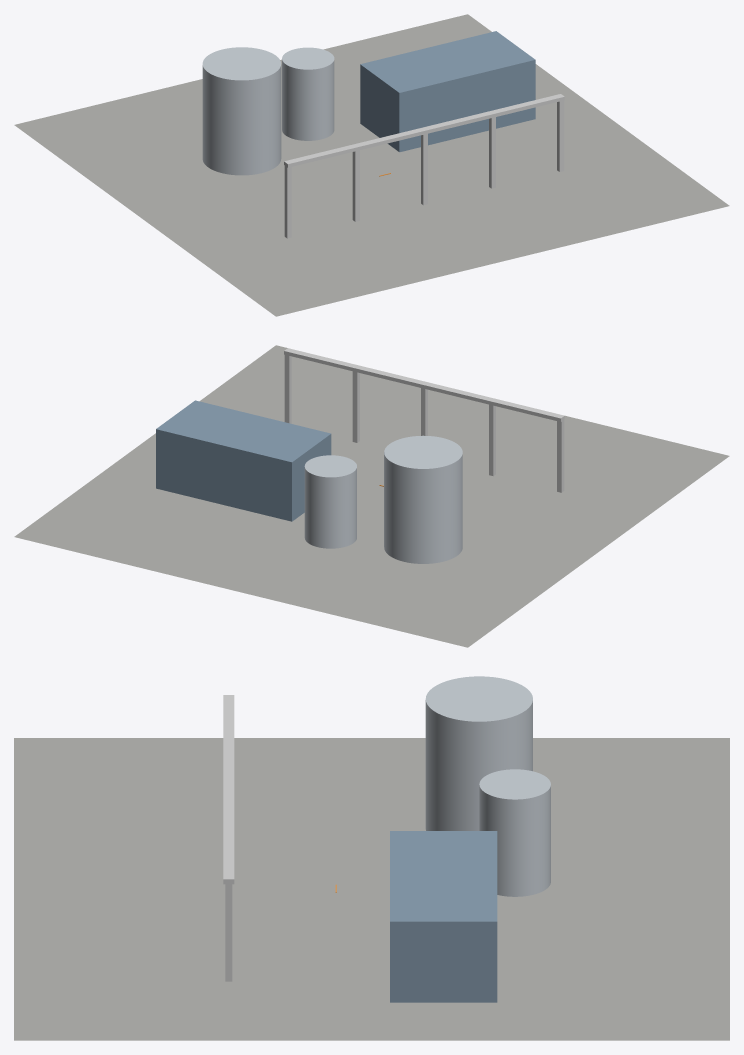
The model's file is sample-site.glb.
The picture shows the model from 3 angles, top to bottom: view 1: azimuth 30°, elevation 25°; view 2: azimuth 150°, elevation 25°; view 3: azimuth 270°, elevation 25°; orthographic projection. The views are drawn at different scales.
Parts seen in each view (by area): view 1: GROUND_40x40m, SHED_12x6x5m, TANK_A_d6m_h8m, TANK_B_d4m_h6m, PIPE_RACK_24m, PILLAR_0_0.4x6m, PILLAR_4_0.4x6m, PILLAR_1_0.4x6m, PILLAR_2_0.4x6m, PILLAR_3_0.4x6m; view 2: GROUND_40x40m, SHED_12x6x5m, TANK_A_d6m_h8m, TANK_B_d4m_h6m, PIPE_RACK_24m, PILLAR_0_0.4x6m, PILLAR_3_0.4x6m, PILLAR_4_0.4x6m, PILLAR_1_0.4x6m; view 3: GROUND_40x40m, SHED_12x6x5m, TANK_A_d6m_h8m, TANK_B_d4m_h6m, PIPE_RACK_24m, PILLAR_4_0.4x6m.
Boxes of the visible parts, x1,y1,x2,y2 form: GROUND_40x40m: (14,14,729,316); SHED_12x6x5m: (360,31,535,152); TANK_A_d6m_h8m: (202,47,281,175); TANK_B_d4m_h6m: (282,47,334,140); PIPE_RACK_24m: (284,94,564,167); PILLAR_0_0.4x6m: (284,166,291,238); PILLAR_4_0.4x6m: (557,100,564,171); PILLAR_1_0.4x6m: (352,150,359,221); PILLAR_2_0.4x6m: (421,133,427,205); PILLAR_3_0.4x6m: (489,117,495,188); GROUND_40x40m: (14,345,729,647); SHED_12x6x5m: (156,400,331,521); TANK_A_d6m_h8m: (384,435,462,563); TANK_B_d4m_h6m: (304,455,356,548); PIPE_RACK_24m: (284,348,564,421); PILLAR_0_0.4x6m: (557,420,564,492); PILLAR_3_0.4x6m: (352,371,359,442); PILLAR_4_0.4x6m: (284,355,291,423); PILLAR_1_0.4x6m: (489,404,495,476); GROUND_40x40m: (14,738,729,1040); SHED_12x6x5m: (390,831,497,1002); TANK_A_d6m_h8m: (425,676,532,830); TANK_B_d4m_h6m: (479,769,550,896); PIPE_RACK_24m: (223,695,234,884); PILLAR_4_0.4x6m: (225,884,232,981).
Bounding box in the file's own units: 40 × 8 × 40.
